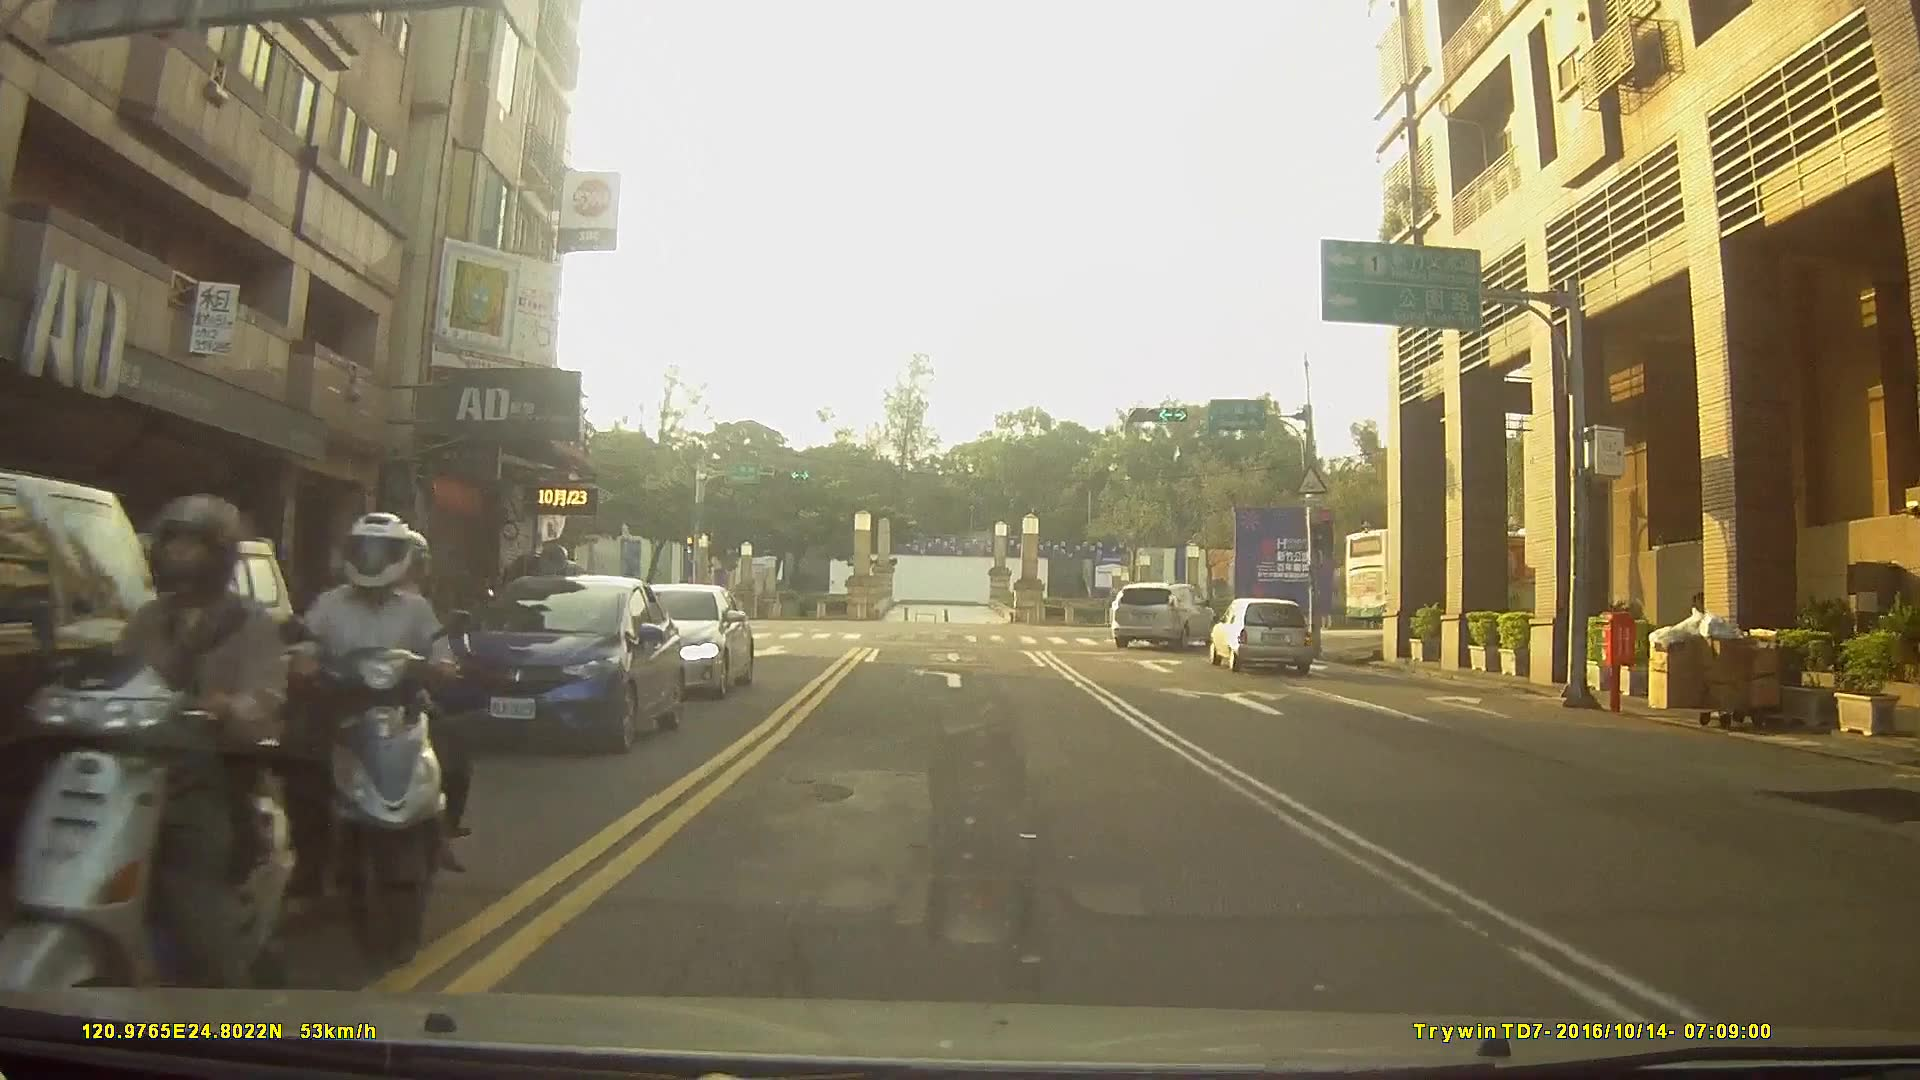rider: (1, 498, 292, 1021), (271, 512, 481, 980)
vehicle: (430, 574, 683, 757), (1343, 527, 1627, 627), (588, 582, 750, 698), (1208, 594, 1313, 671), (1112, 580, 1218, 647)
